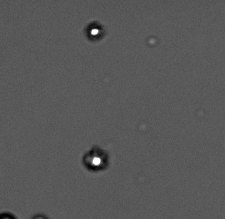Living Cell: (83, 148, 109, 171), (84, 21, 105, 41)
